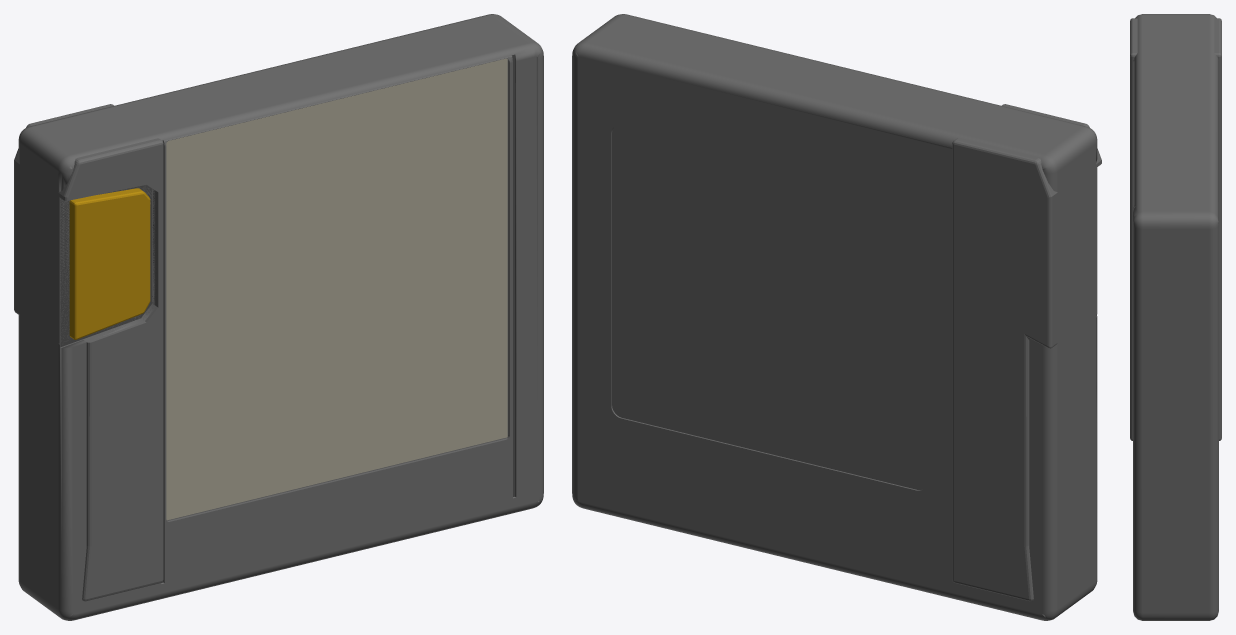
File: media-ea-master.glb
The picture shows the model from 3 angles, left to right: view 1: azimuth 30°, elevation 25°; view 2: azimuth 150°, elevation 25°; view 3: azimuth 270°, elevation 25°; orthographic projection. The views are drawn at different scales.
Visible parts, largest first — view 1: Electronic Arts cartridge blank recessed label, Electronic Arts cartridge original shell, Electronic Arts cartridge left shoulder rail, Electronic Arts cartridge yellow grip; view 2: Electronic Arts cartridge original shell, Electronic Arts cartridge left shoulder rail; view 3: Electronic Arts cartridge original shell, Electronic Arts cartridge left shoulder rail.
Boxes of the visible parts, x1=… form: Electronic Arts cartridge blank recessed label: x1=166, y1=58, x2=507, y2=520; Electronic Arts cartridge original shell: x1=18, y1=14, x2=543, y2=620; Electronic Arts cartridge left shoulder rail: x1=14, y1=104, x2=163, y2=601; Electronic Arts cartridge yellow grip: x1=69, y1=188, x2=150, y2=339; Electronic Arts cartridge original shell: x1=572, y1=14, x2=1097, y2=620; Electronic Arts cartridge left shoulder rail: x1=952, y1=104, x2=1101, y2=601; Electronic Arts cartridge original shell: x1=1133, y1=14, x2=1218, y2=620; Electronic Arts cartridge left shoulder rail: x1=1130, y1=18, x2=1221, y2=440.
Size of the model in its own units: 1.99 by 1.83 by 0.374.
